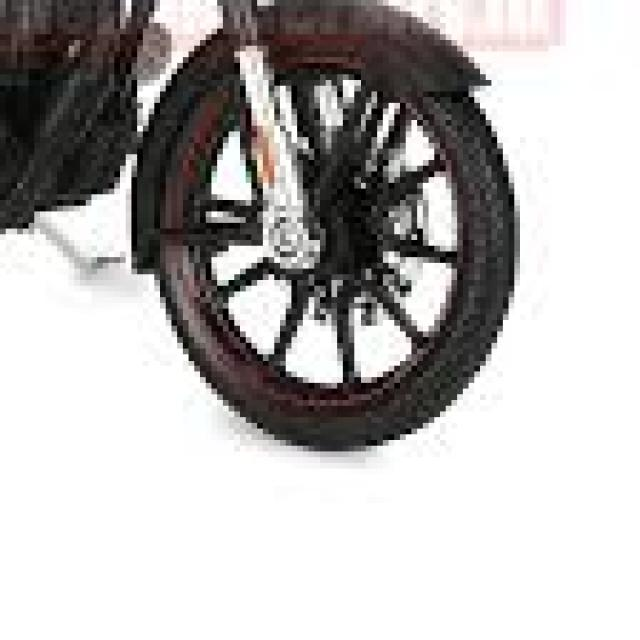bike: (0, 0, 531, 451)
